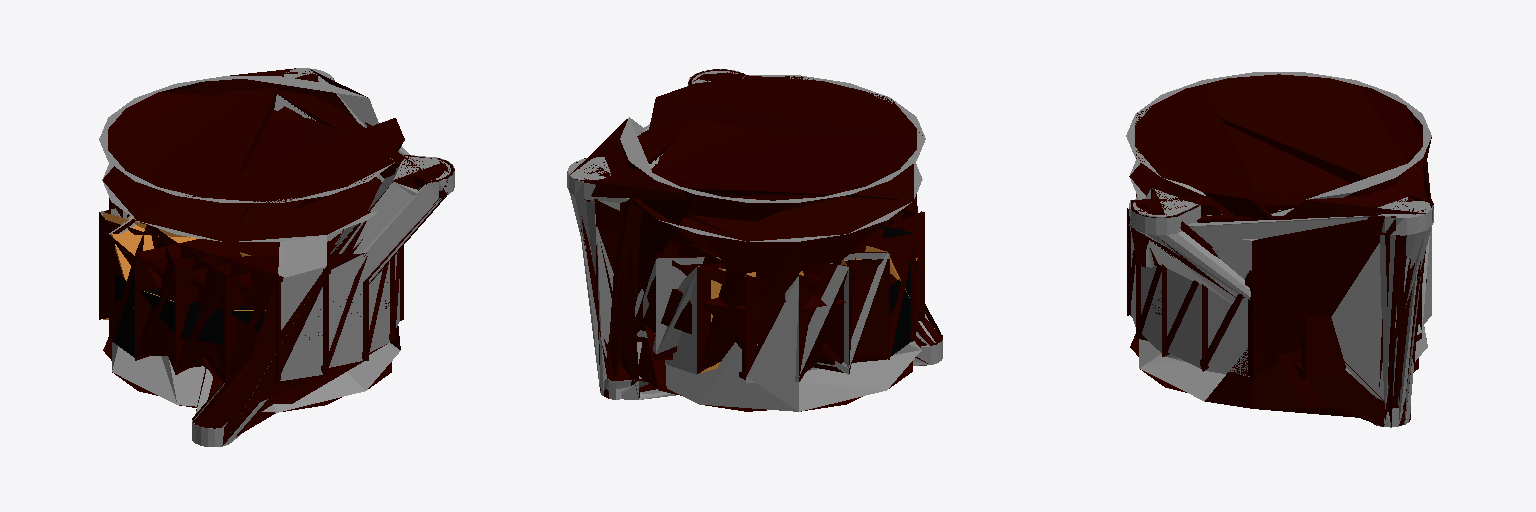
Rendered from Bongo.obj.
The picture shows the model from 3 angles: view 1: azimuth 30°, elevation 25°; view 2: azimuth 150°, elevation 25°; view 3: azimuth 270°, elevation 25°; orthographic projection.
Parts seen in each view (by area): view 1: Cylinder024, Cylinder018, Cylinder016; view 2: Cylinder024, Cylinder018, Cylinder016; view 3: Cylinder024, Cylinder018, Cylinder016.
Part boxes in pixels (left/top/right/bottom): Cylinder024: left=99, top=68, right=454, bottom=445; Cylinder018: left=194, top=68, right=454, bottom=434; Cylinder016: left=222, top=68, right=454, bottom=446; Cylinder024: left=570, top=69, right=942, bottom=411; Cylinder018: left=568, top=69, right=941, bottom=399; Cylinder016: left=567, top=69, right=934, bottom=399; Cylinder024: left=1126, top=72, right=1433, bottom=426; Cylinder018: left=1129, top=189, right=1433, bottom=427; Cylinder016: left=1129, top=188, right=1433, bottom=426.
Size of the model in its own units: 525572 by 437901 by 519174.